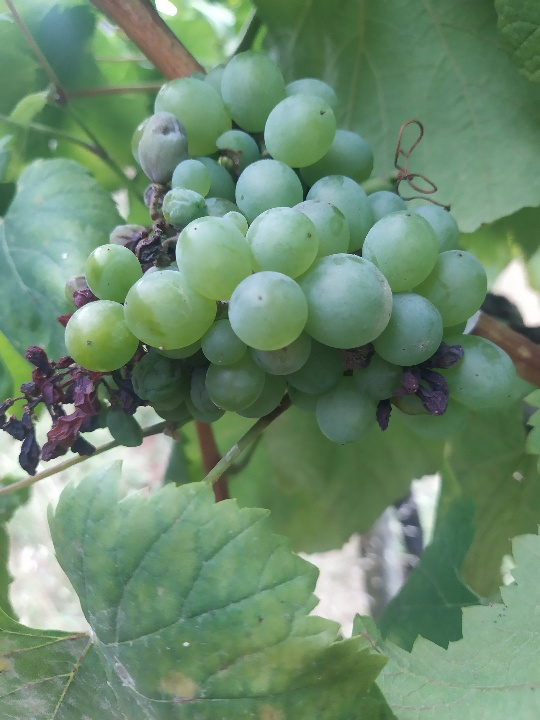grape: (0, 46, 520, 482)
